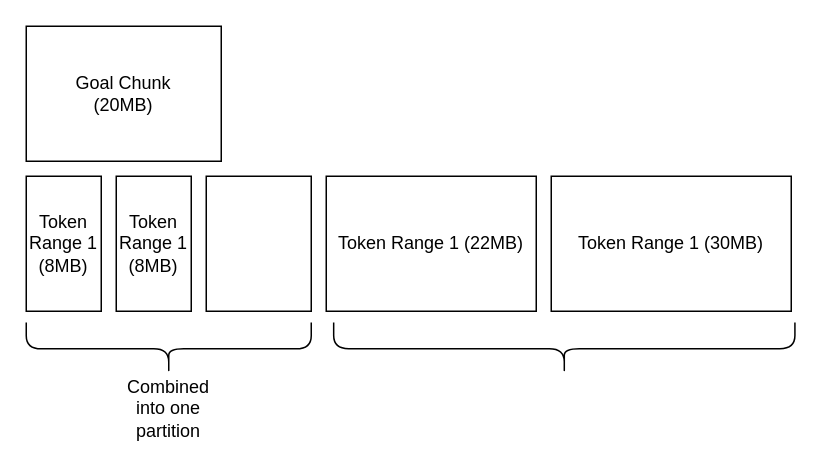
Some shapes in this 822 by 467 pixel diagram are drawn without their labels. The shapes that lost their labels are listed below. From the top down, each one's box as (x1, y1, x2, y2) in pixels, then its label:
(205, 175, 311, 311): Token Range 1 (12MB)
(332, 321, 795, 375): Unchanged
